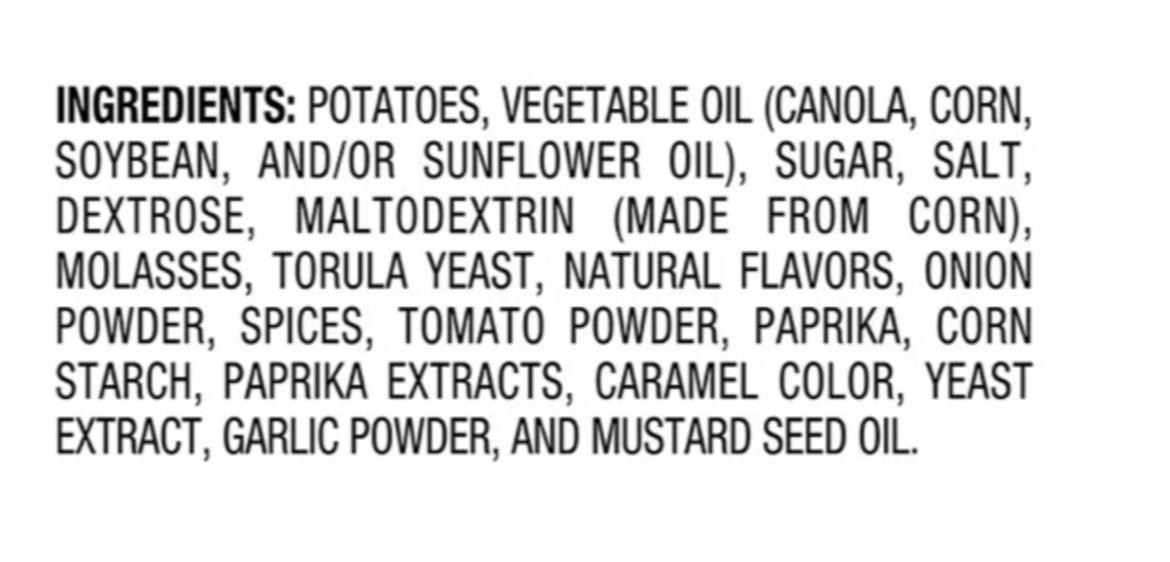ingredients: (49, 59, 1065, 476)
